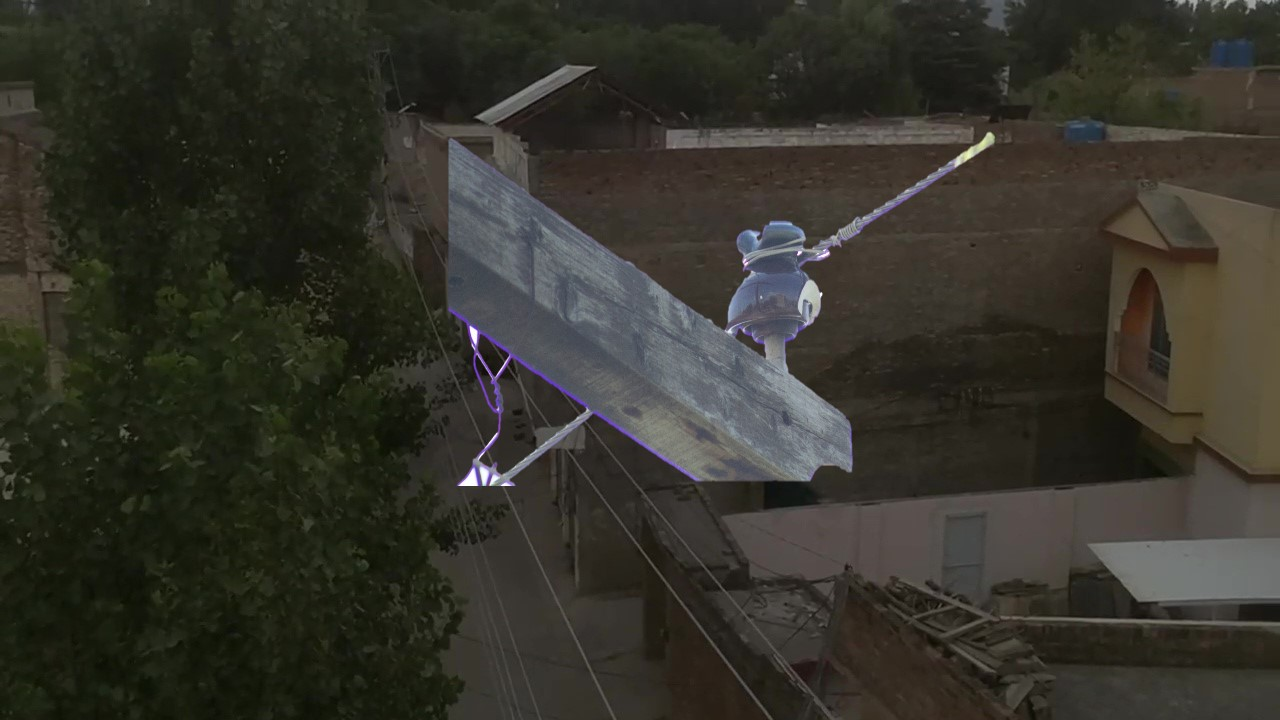defect_pin: (720, 215, 831, 345)
